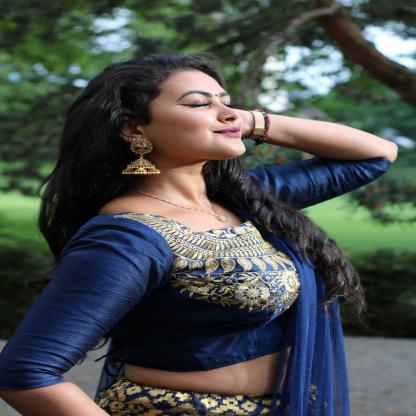Eye: (188, 99, 211, 109), (220, 100, 238, 108)
Mouth: (213, 126, 241, 138)
Nose: (212, 101, 239, 123)
